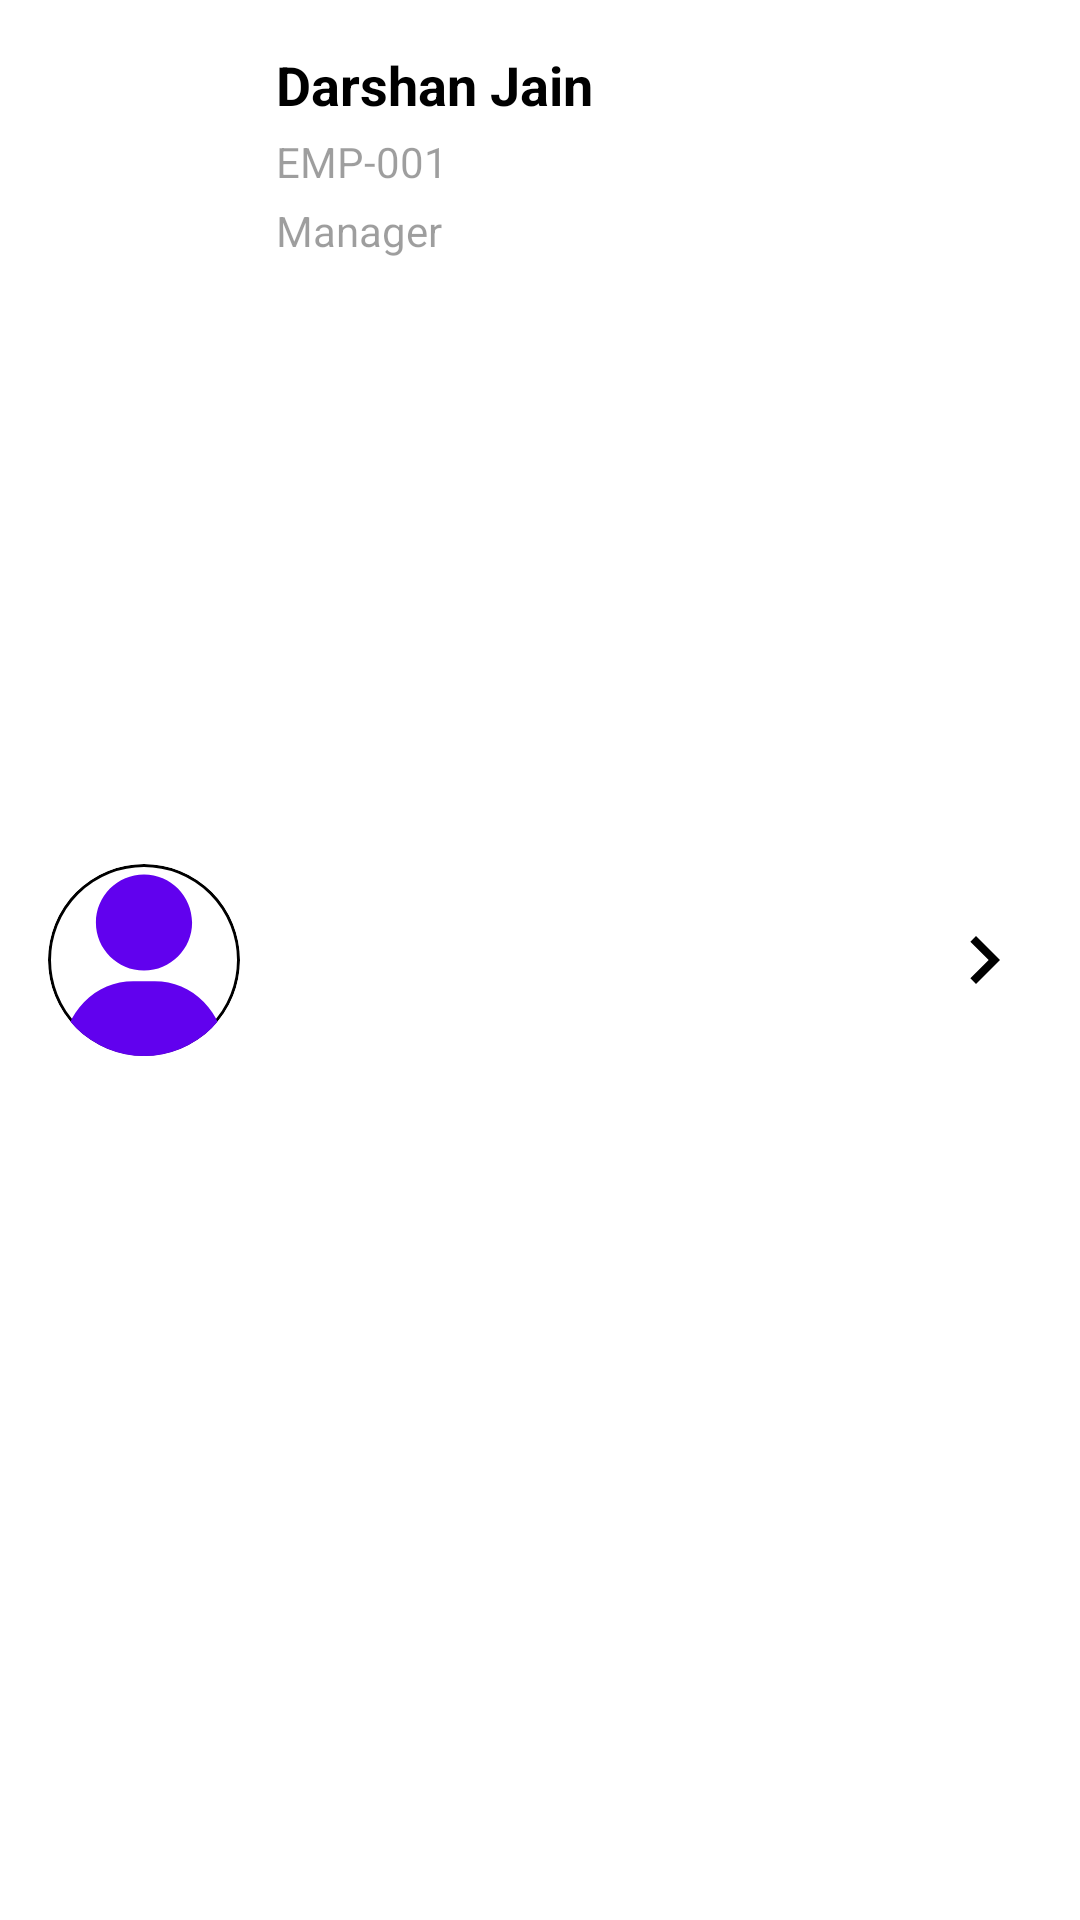

Screen size 1080×1920. Icon name, then its center in pixels as [x,y]:
right: [985,960]
user: [144,960]
